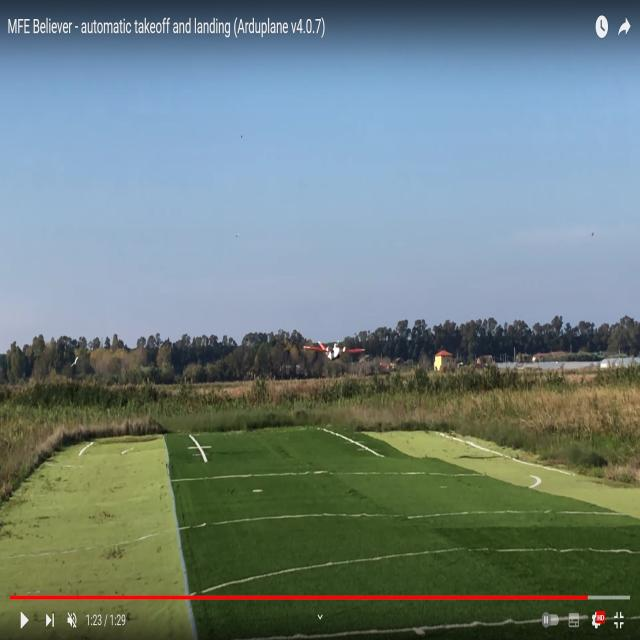iha: (303, 335, 363, 361)
